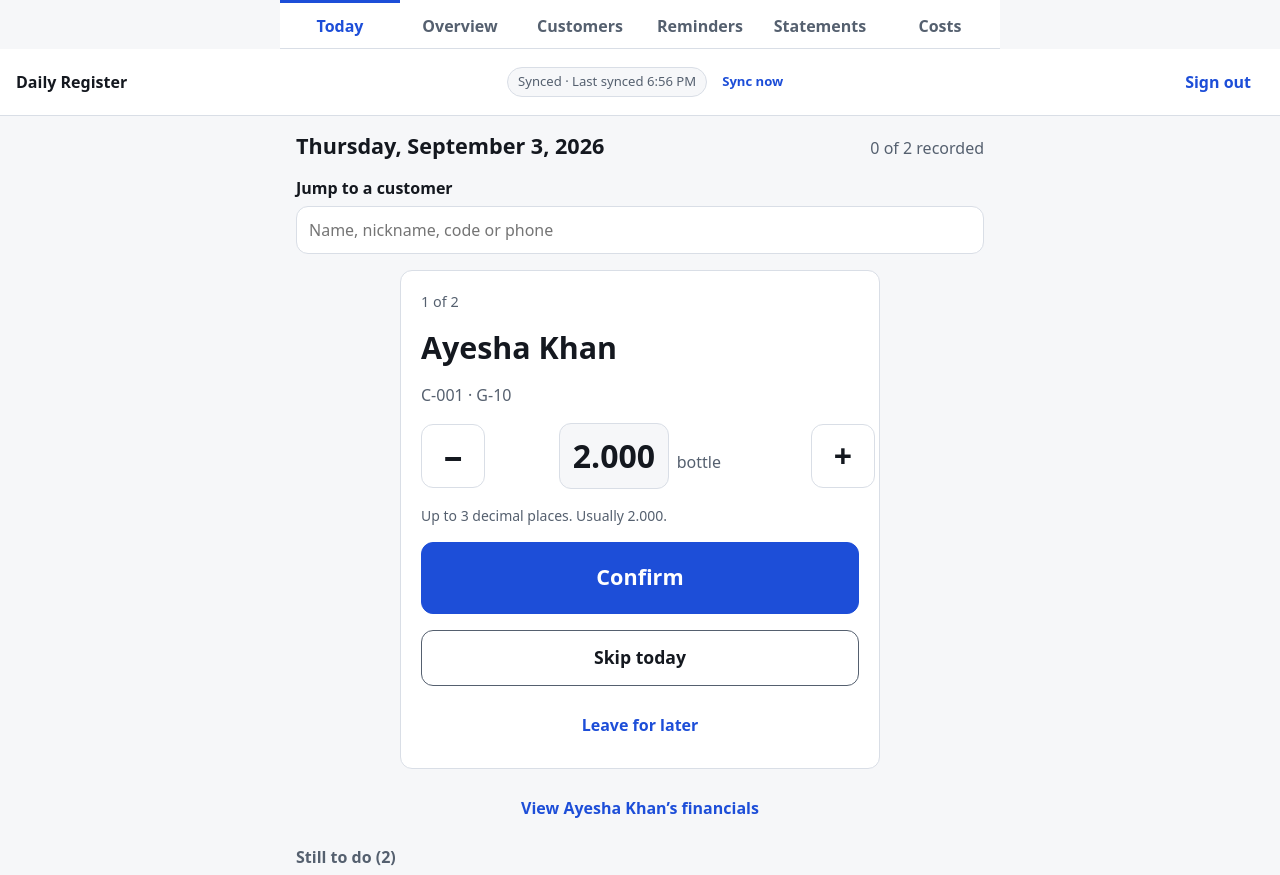
Test: leaving a customer for later › writes nothing at all and only moves the round on
This screenshot has width=1280, height=875.
Expected: the heading "Ayesha Khan" is shown, [421,327,617,368]
Click the button "Leave for later" at (640, 725), box [421,702,859,748]
(page scrolled)
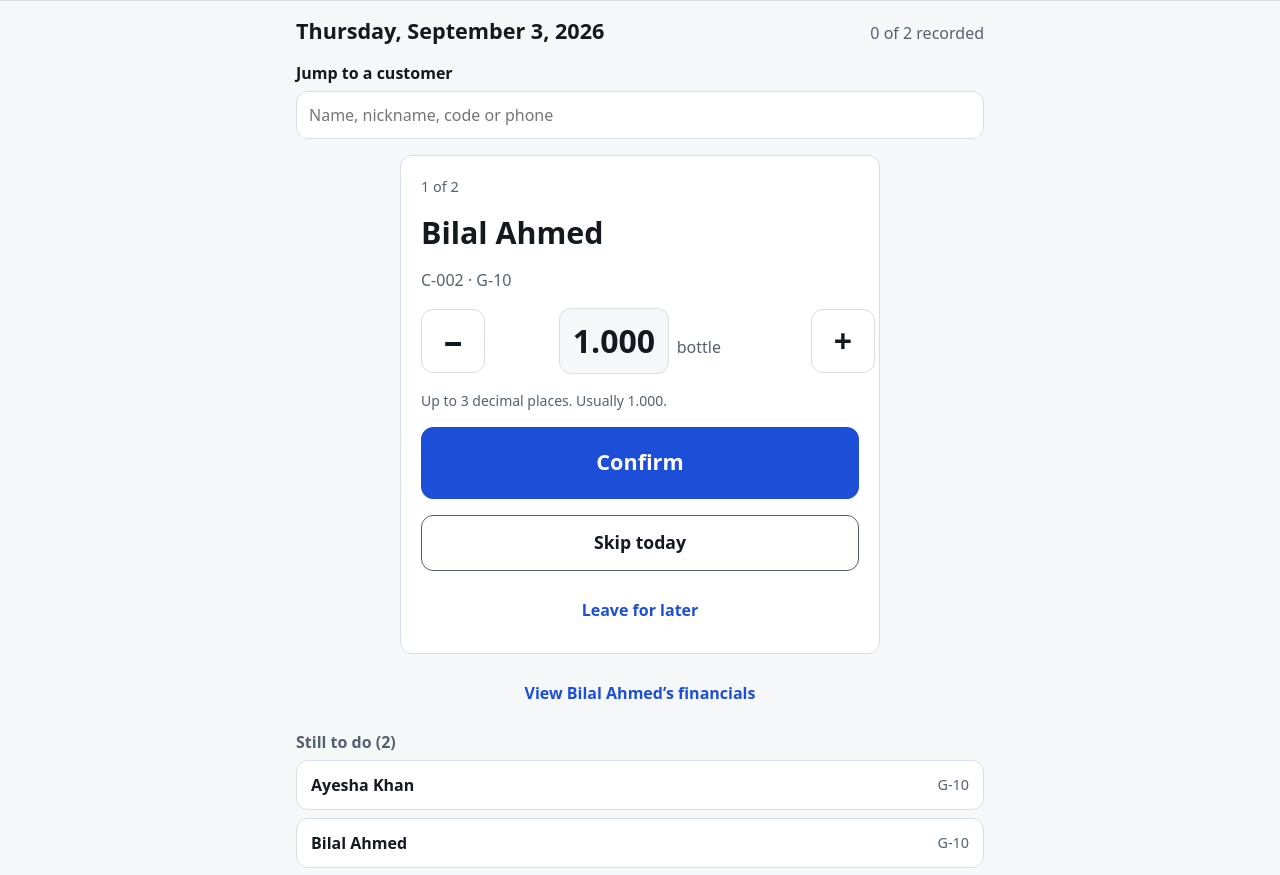
Expected: the text "Ayesha Khan" is shown, [311,773,414,797]
Result: the heading "Bilal Ahmed" is shown at [421,212,604,253]
